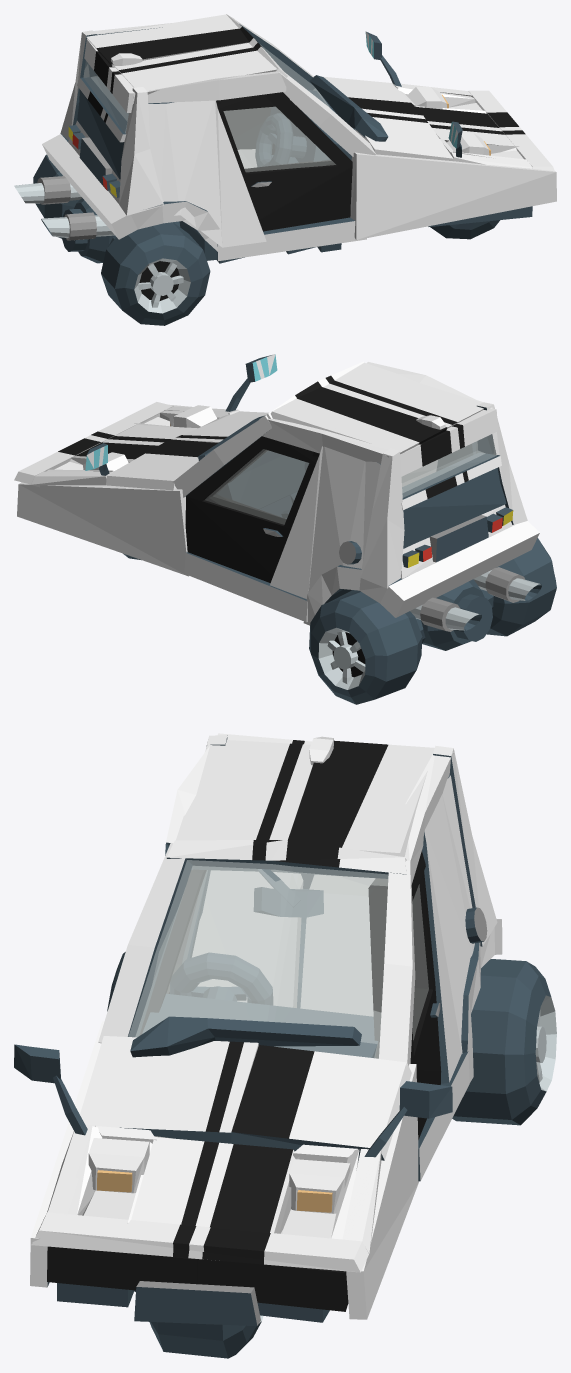
The model's file is hatch_micro.glb.
3 renders of one model, top to bottom at view 1: azimuth 30°, elevation 25°; view 2: azimuth 150°, elevation 25°; view 3: azimuth 270°, elevation 25°, orthographic. The views are drawn at different scales.
Parts seen in each view (by area): view 1: group434004617, group984758681, group320734971, group788969800, group1051330705, group1949155038, group1207072670, group1468793571, group1233879185, group1444646390, group555284456, group1232467283 (+30 smaller); view 2: group1885019339, group447744954, group505989938, group362936881, group1051330705, group1207072670, group1468793571, group774492591, group90471379, group1999849156, group788969800, group2046142633 (+28 smaller); view 3: group1997806717, group2046142633, group555284456, group1530680266, group362936881, group1207072670, group2080416661, group1468793571, group447744954, group1777975245, group698857850, group505989938 (+34 smaller).
Boxes of the visible parts, box(x1,y1,x2,y2) form: group434004617: box(350, 152, 556, 239); group984758681: box(148, 100, 266, 247); group320734971: box(216, 92, 352, 231); group788969800: box(101, 222, 210, 325); group1051330705: box(42, 134, 219, 260); group1949155038: box(223, 106, 335, 171); group1207072670: box(86, 14, 248, 66); group1468793571: box(115, 43, 277, 94); group1233879185: box(119, 87, 163, 215); group1444646390: box(217, 217, 366, 261); group555284456: box(355, 108, 453, 161); group1232467283: box(133, 71, 286, 103); group1885019339: box(17, 482, 188, 576); group447744954: box(270, 446, 380, 598); group505989938: box(185, 436, 319, 582); group362936881: box(309, 591, 422, 704); group1051330705: box(303, 521, 539, 625); group1207072670: box(270, 387, 447, 454); group1468793571: box(323, 362, 483, 428); group774492591: box(205, 449, 308, 524); group90471379: box(360, 448, 404, 588); group1999849156: box(403, 468, 506, 548); group788969800: box(487, 538, 556, 636); group2046142633: box(106, 439, 217, 490); group1997806717: box(128, 860, 388, 1058); group2046142633: box(231, 1045, 411, 1160); group555284456: box(80, 1036, 258, 1143); group1530680266: box(131, 1137, 295, 1233); group362936881: box(452, 959, 556, 1125); group1207072670: box(287, 740, 434, 856); group2080416661: box(31, 1212, 368, 1272); group1468793571: box(176, 740, 312, 840); group447744954: box(422, 775, 474, 1083); group1777975245: box(192, 870, 302, 1007); group698857850: box(300, 875, 375, 1016); group505989938: box(368, 851, 441, 1139).
Bounding box in the file's own units: 4.2 × 1.93 × 2.59.
